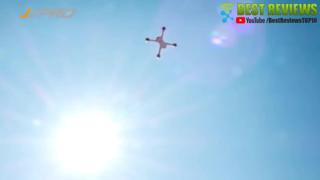UAV: (146, 27, 177, 58)
